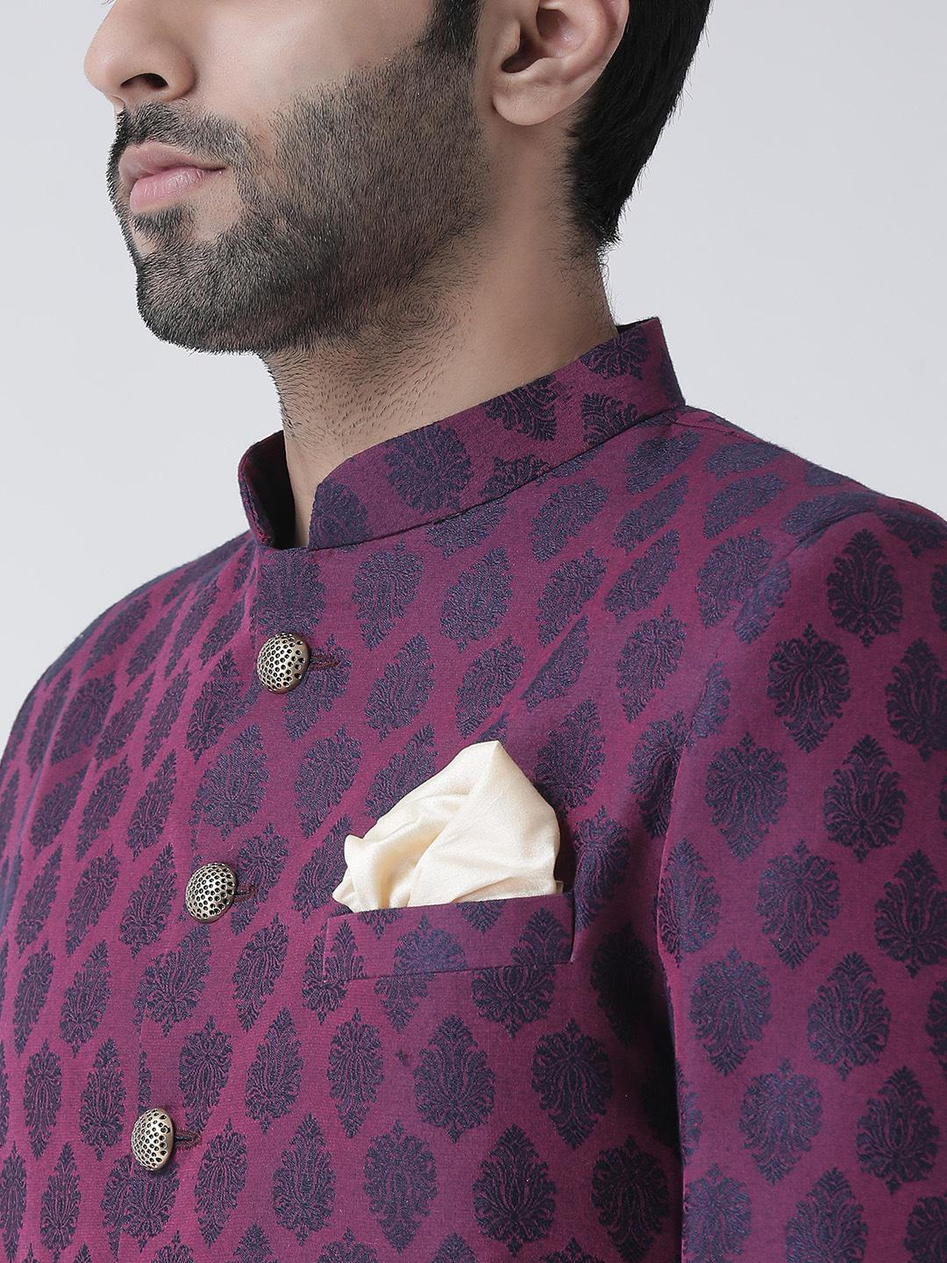Design Sherwani: (0, 316, 945, 1259)
